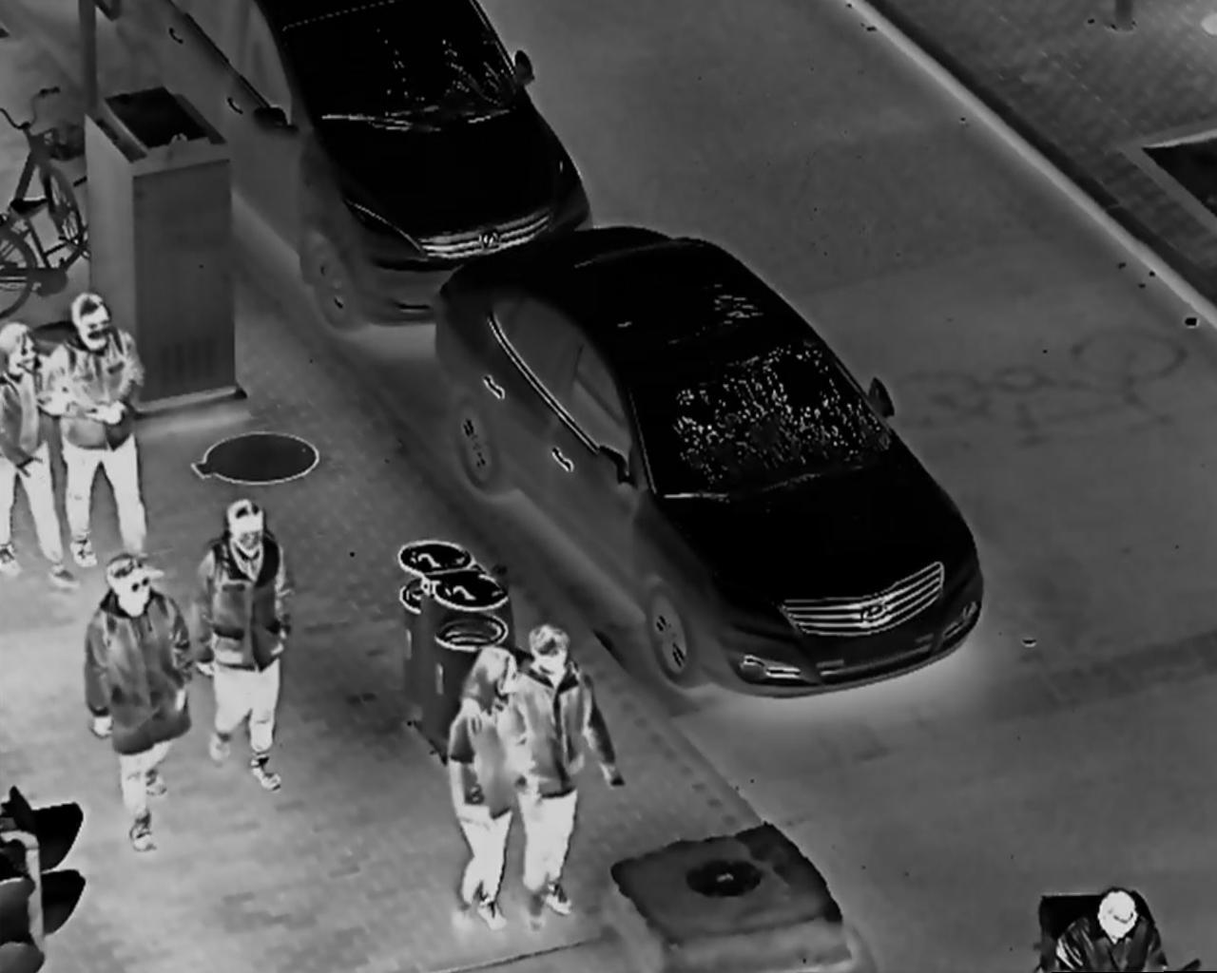person: (81, 542, 201, 849), (190, 493, 302, 792), (46, 289, 161, 570), (516, 623, 625, 919), (444, 649, 539, 926), (1051, 886, 1170, 973)
